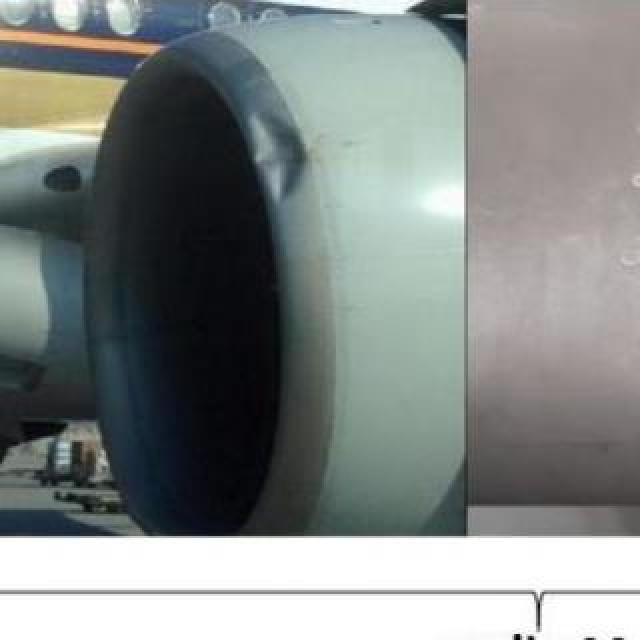dent: (247, 110, 313, 202)
